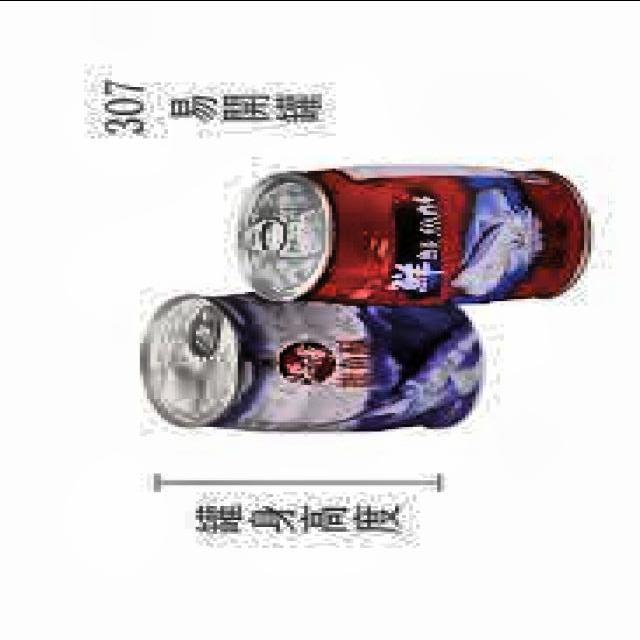Aluminum Can: (226, 160, 614, 315), (132, 279, 506, 439)
